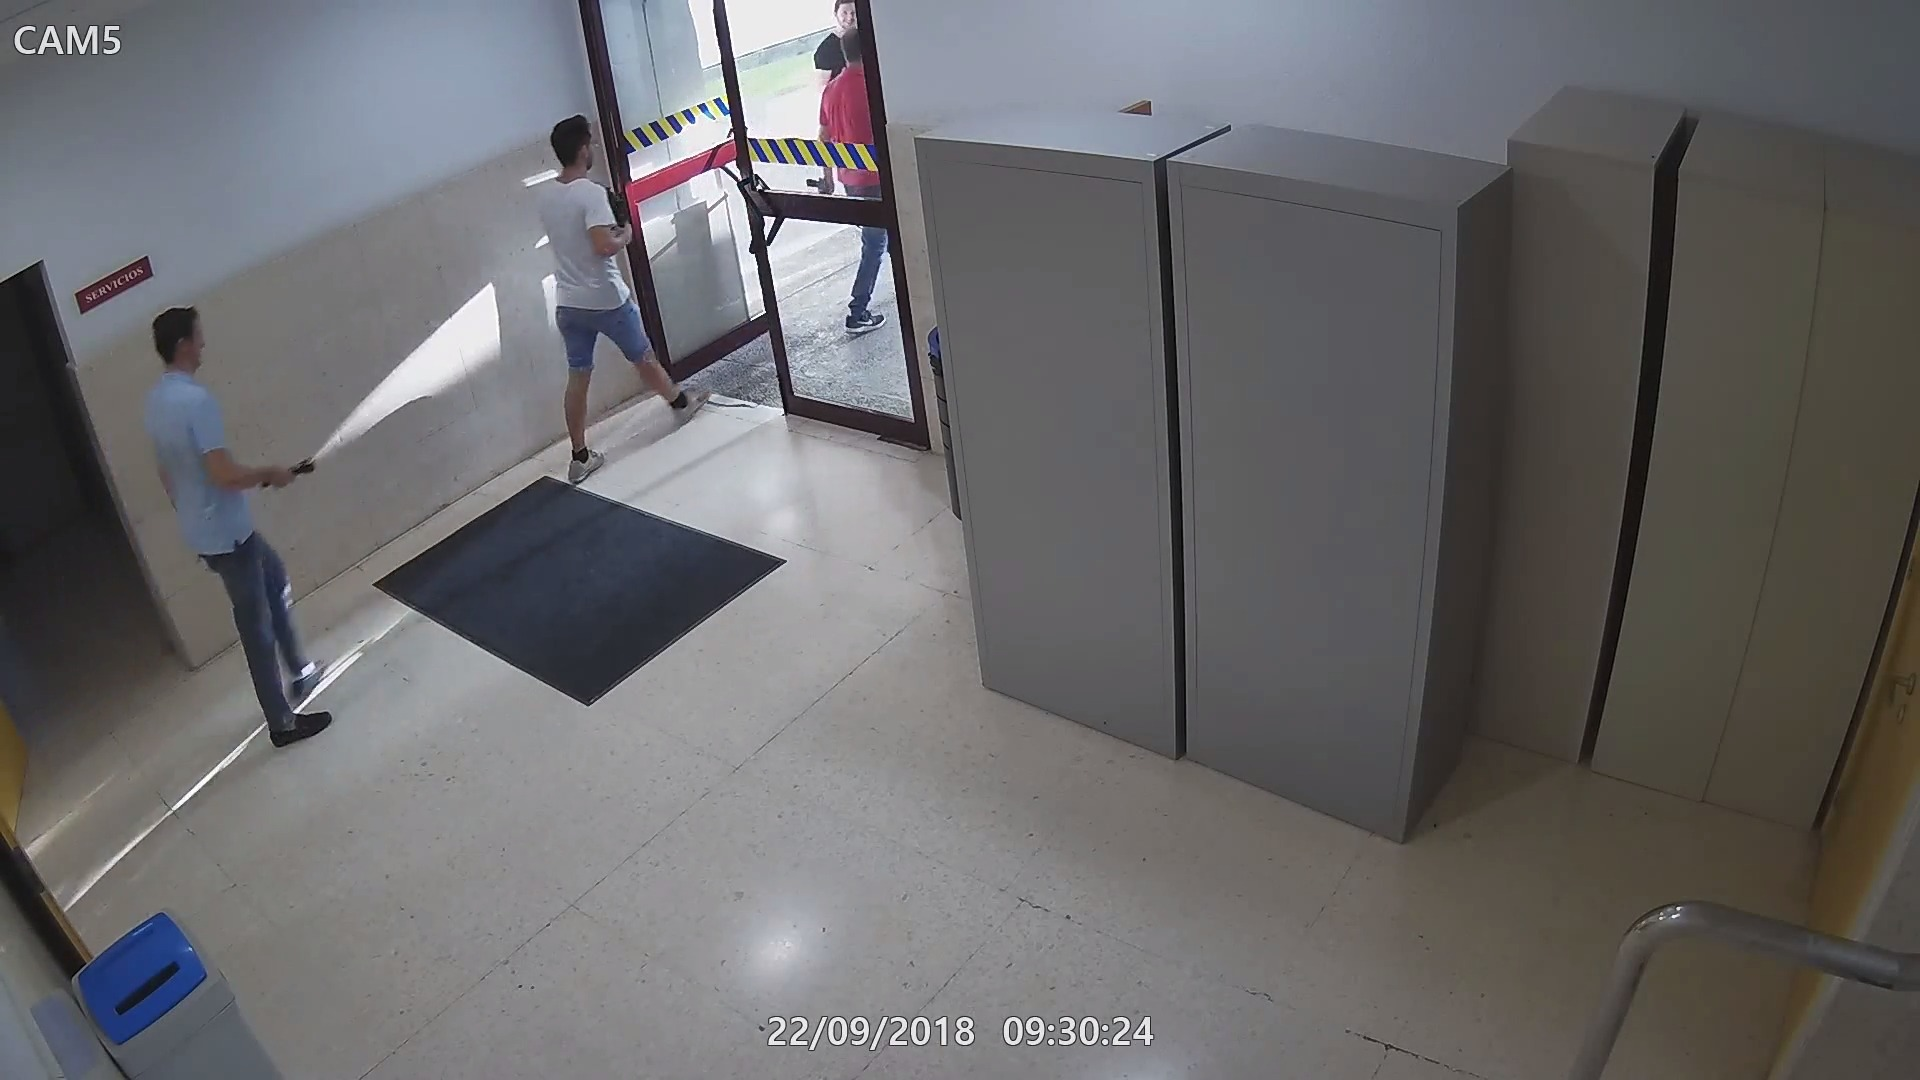Short_rifle: (593, 182, 640, 244)
